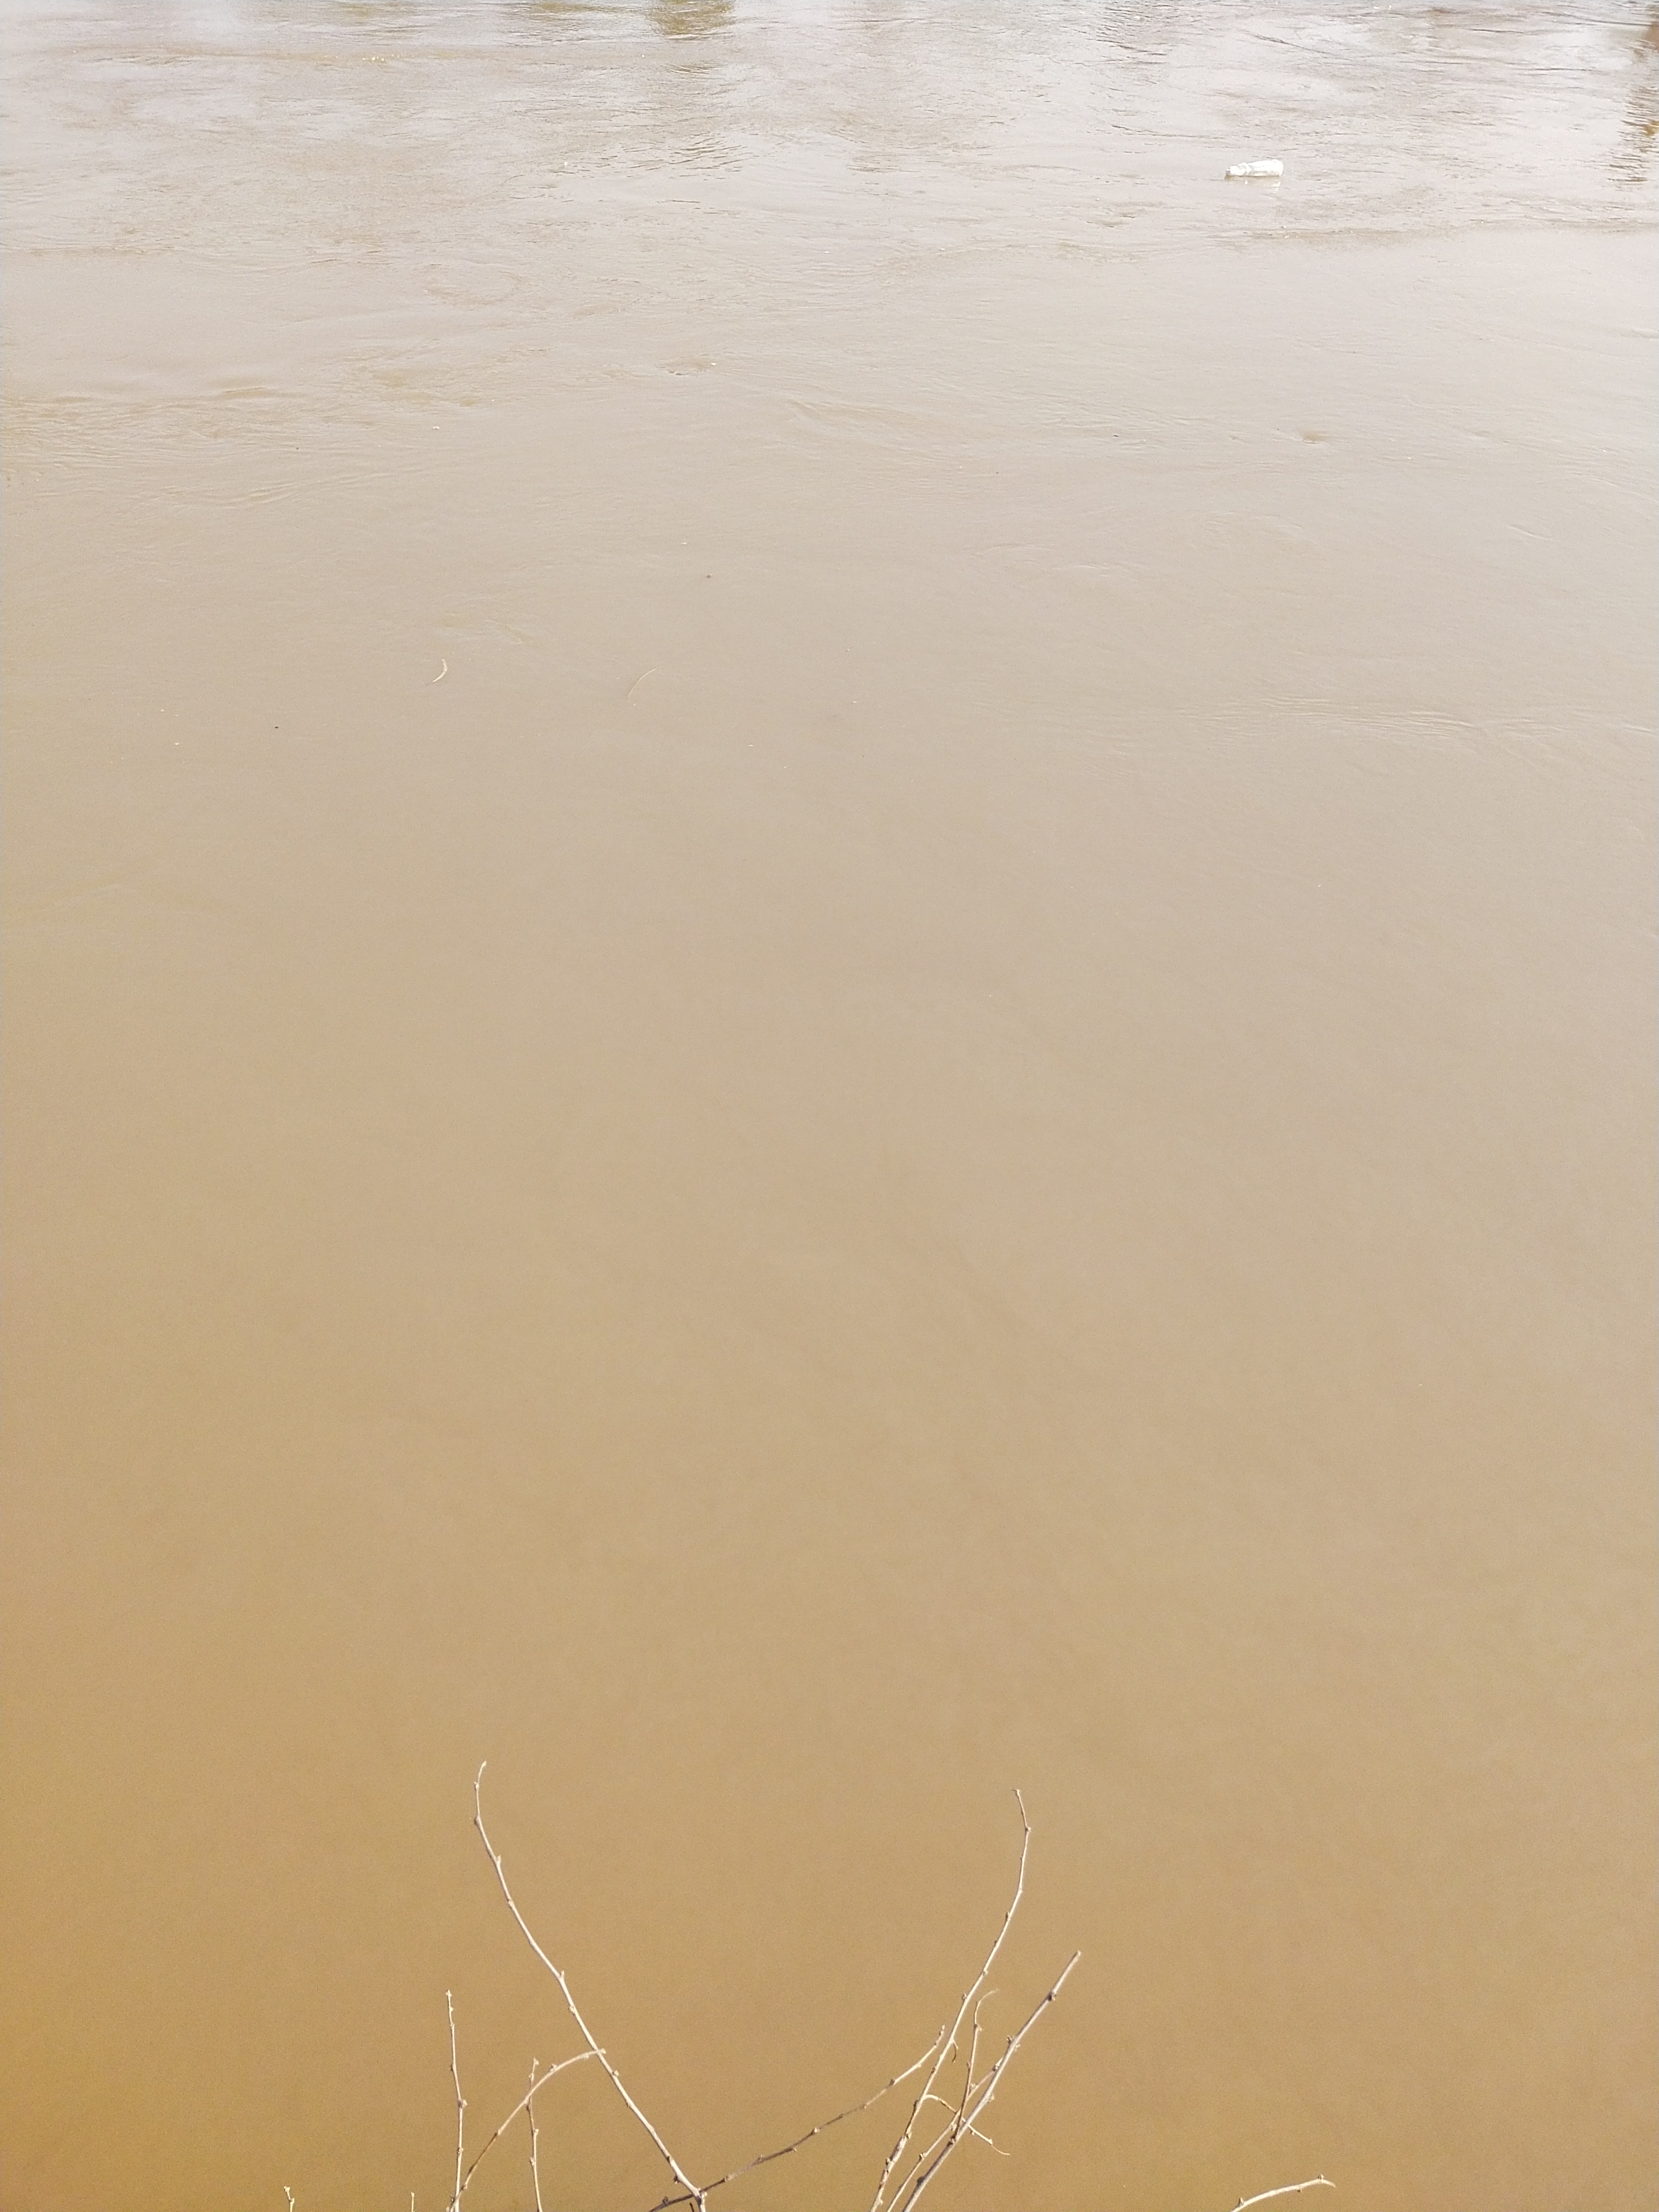Plastic Bottle: (1227, 158, 1283, 178)
